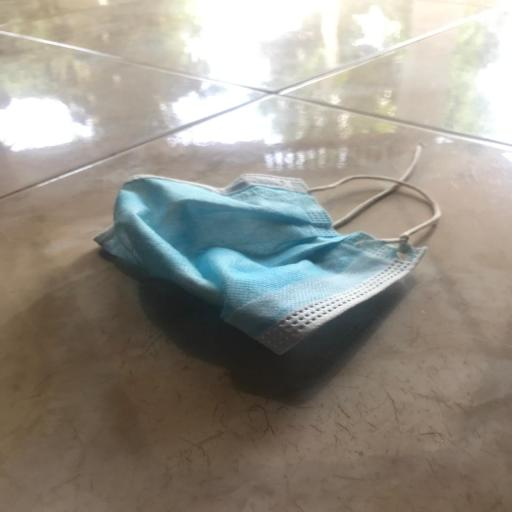waste: (77, 121, 458, 354)
